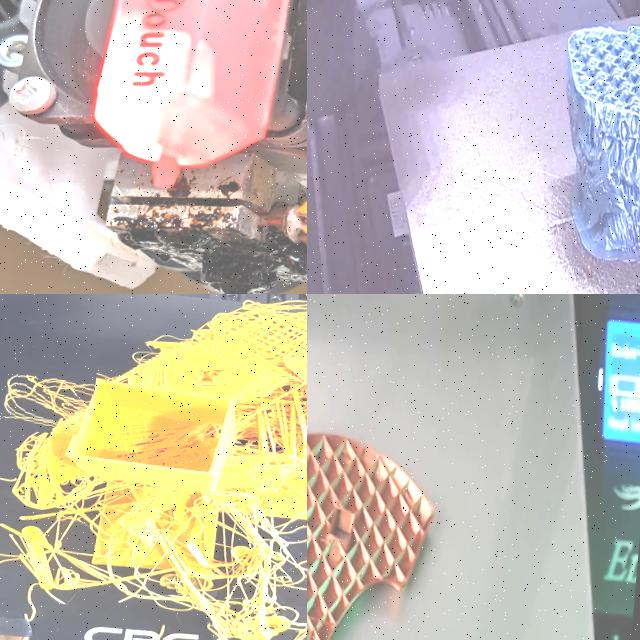spaghetti: (0, 468, 307, 640), (0, 338, 98, 436)
